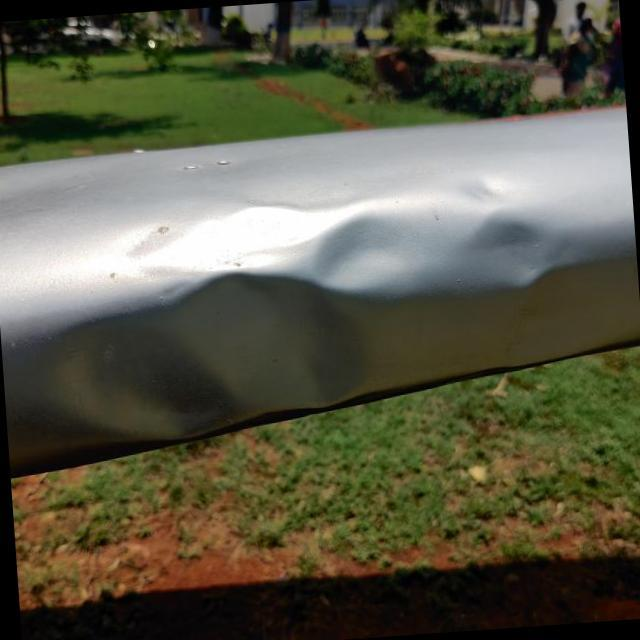Dent: (11, 162, 432, 471), (437, 159, 580, 315)
